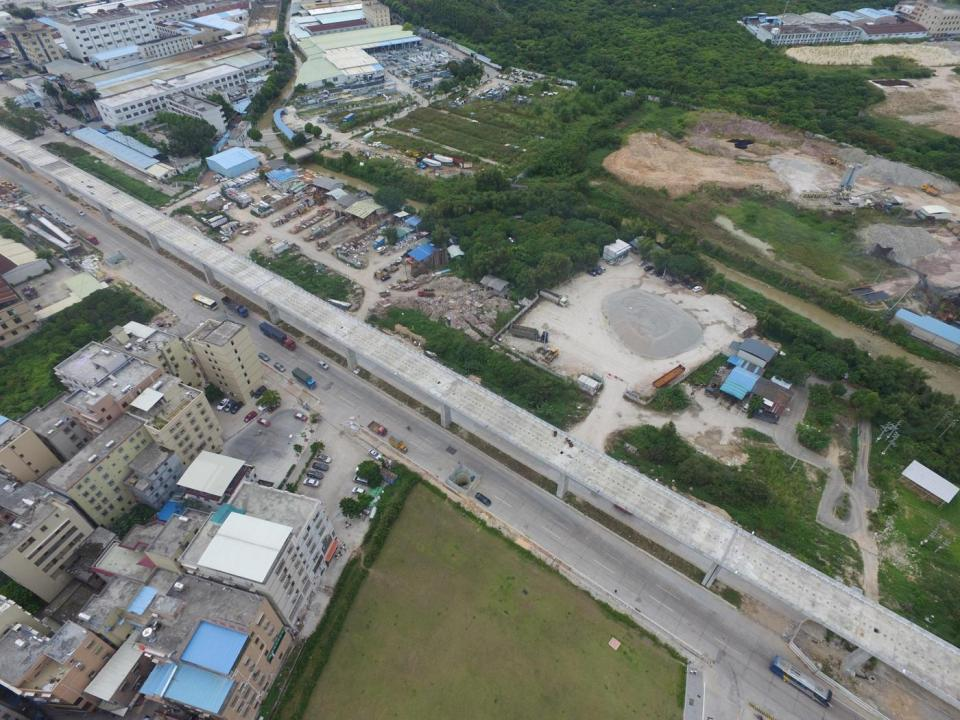bus: (770, 655, 836, 709), (191, 294, 218, 310)
car: (475, 492, 492, 506), (257, 398, 275, 411), (367, 448, 382, 461), (315, 453, 332, 464), (306, 469, 323, 480), (253, 384, 266, 398), (243, 410, 258, 422), (223, 399, 236, 412), (230, 401, 243, 414), (216, 398, 230, 410), (352, 486, 367, 497), (302, 478, 320, 487), (268, 401, 281, 413), (293, 411, 308, 421), (312, 462, 328, 471), (257, 417, 271, 426), (274, 362, 286, 372), (258, 352, 270, 361), (380, 274, 392, 282), (376, 245, 387, 252), (77, 209, 86, 217), (592, 267, 601, 275), (649, 268, 658, 276), (693, 285, 702, 293), (637, 260, 647, 267), (586, 270, 597, 276), (682, 278, 690, 286), (644, 265, 653, 272), (688, 282, 697, 289), (656, 270, 663, 277)
truck: (37, 202, 99, 246), (257, 320, 296, 352), (509, 322, 549, 344), (220, 296, 249, 318), (539, 287, 568, 307), (292, 368, 316, 390), (373, 464, 398, 484), (703, 375, 722, 397), (387, 435, 408, 453), (416, 156, 442, 170), (367, 420, 387, 437), (425, 154, 453, 166), (921, 183, 942, 197), (441, 154, 463, 166), (417, 286, 435, 297), (372, 236, 385, 248), (342, 113, 355, 124), (215, 232, 227, 243), (460, 160, 473, 170), (414, 160, 426, 170), (379, 289, 391, 297)
van: (352, 476, 370, 485), (318, 359, 329, 370), (742, 402, 750, 413), (598, 265, 606, 272)
